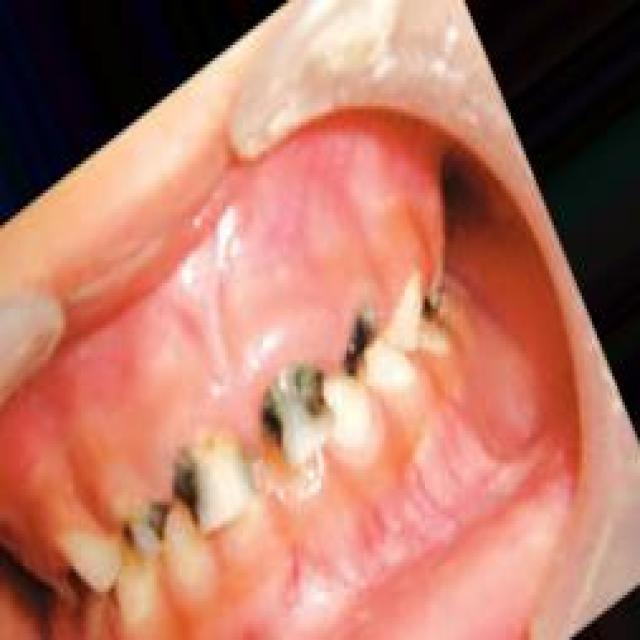caries: (251, 359, 335, 474), (173, 434, 249, 524), (334, 281, 390, 401), (106, 479, 179, 558), (404, 253, 453, 338)
